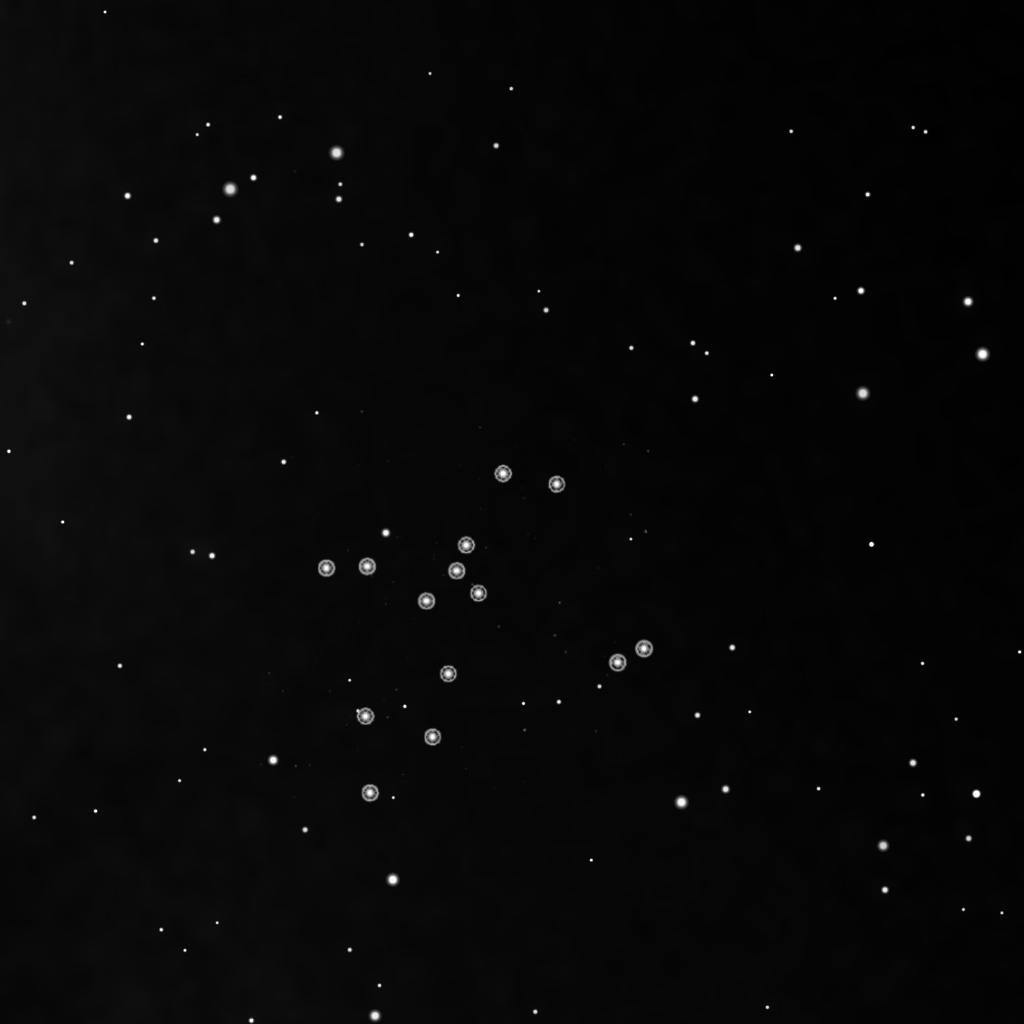canis_major: (411, 459, 569, 618)
